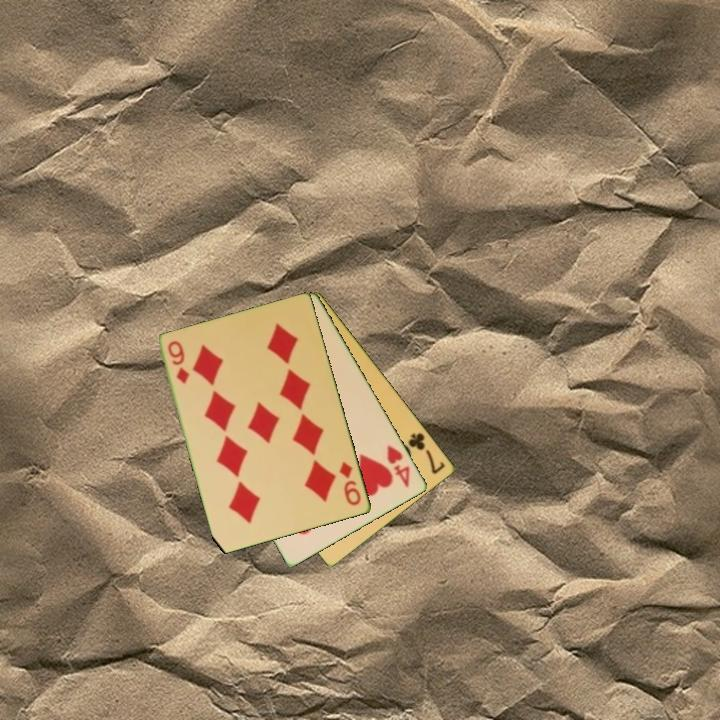4h: (384, 441, 413, 491)
7c: (405, 429, 448, 477)
9d: (336, 458, 364, 509), (165, 337, 193, 387)
